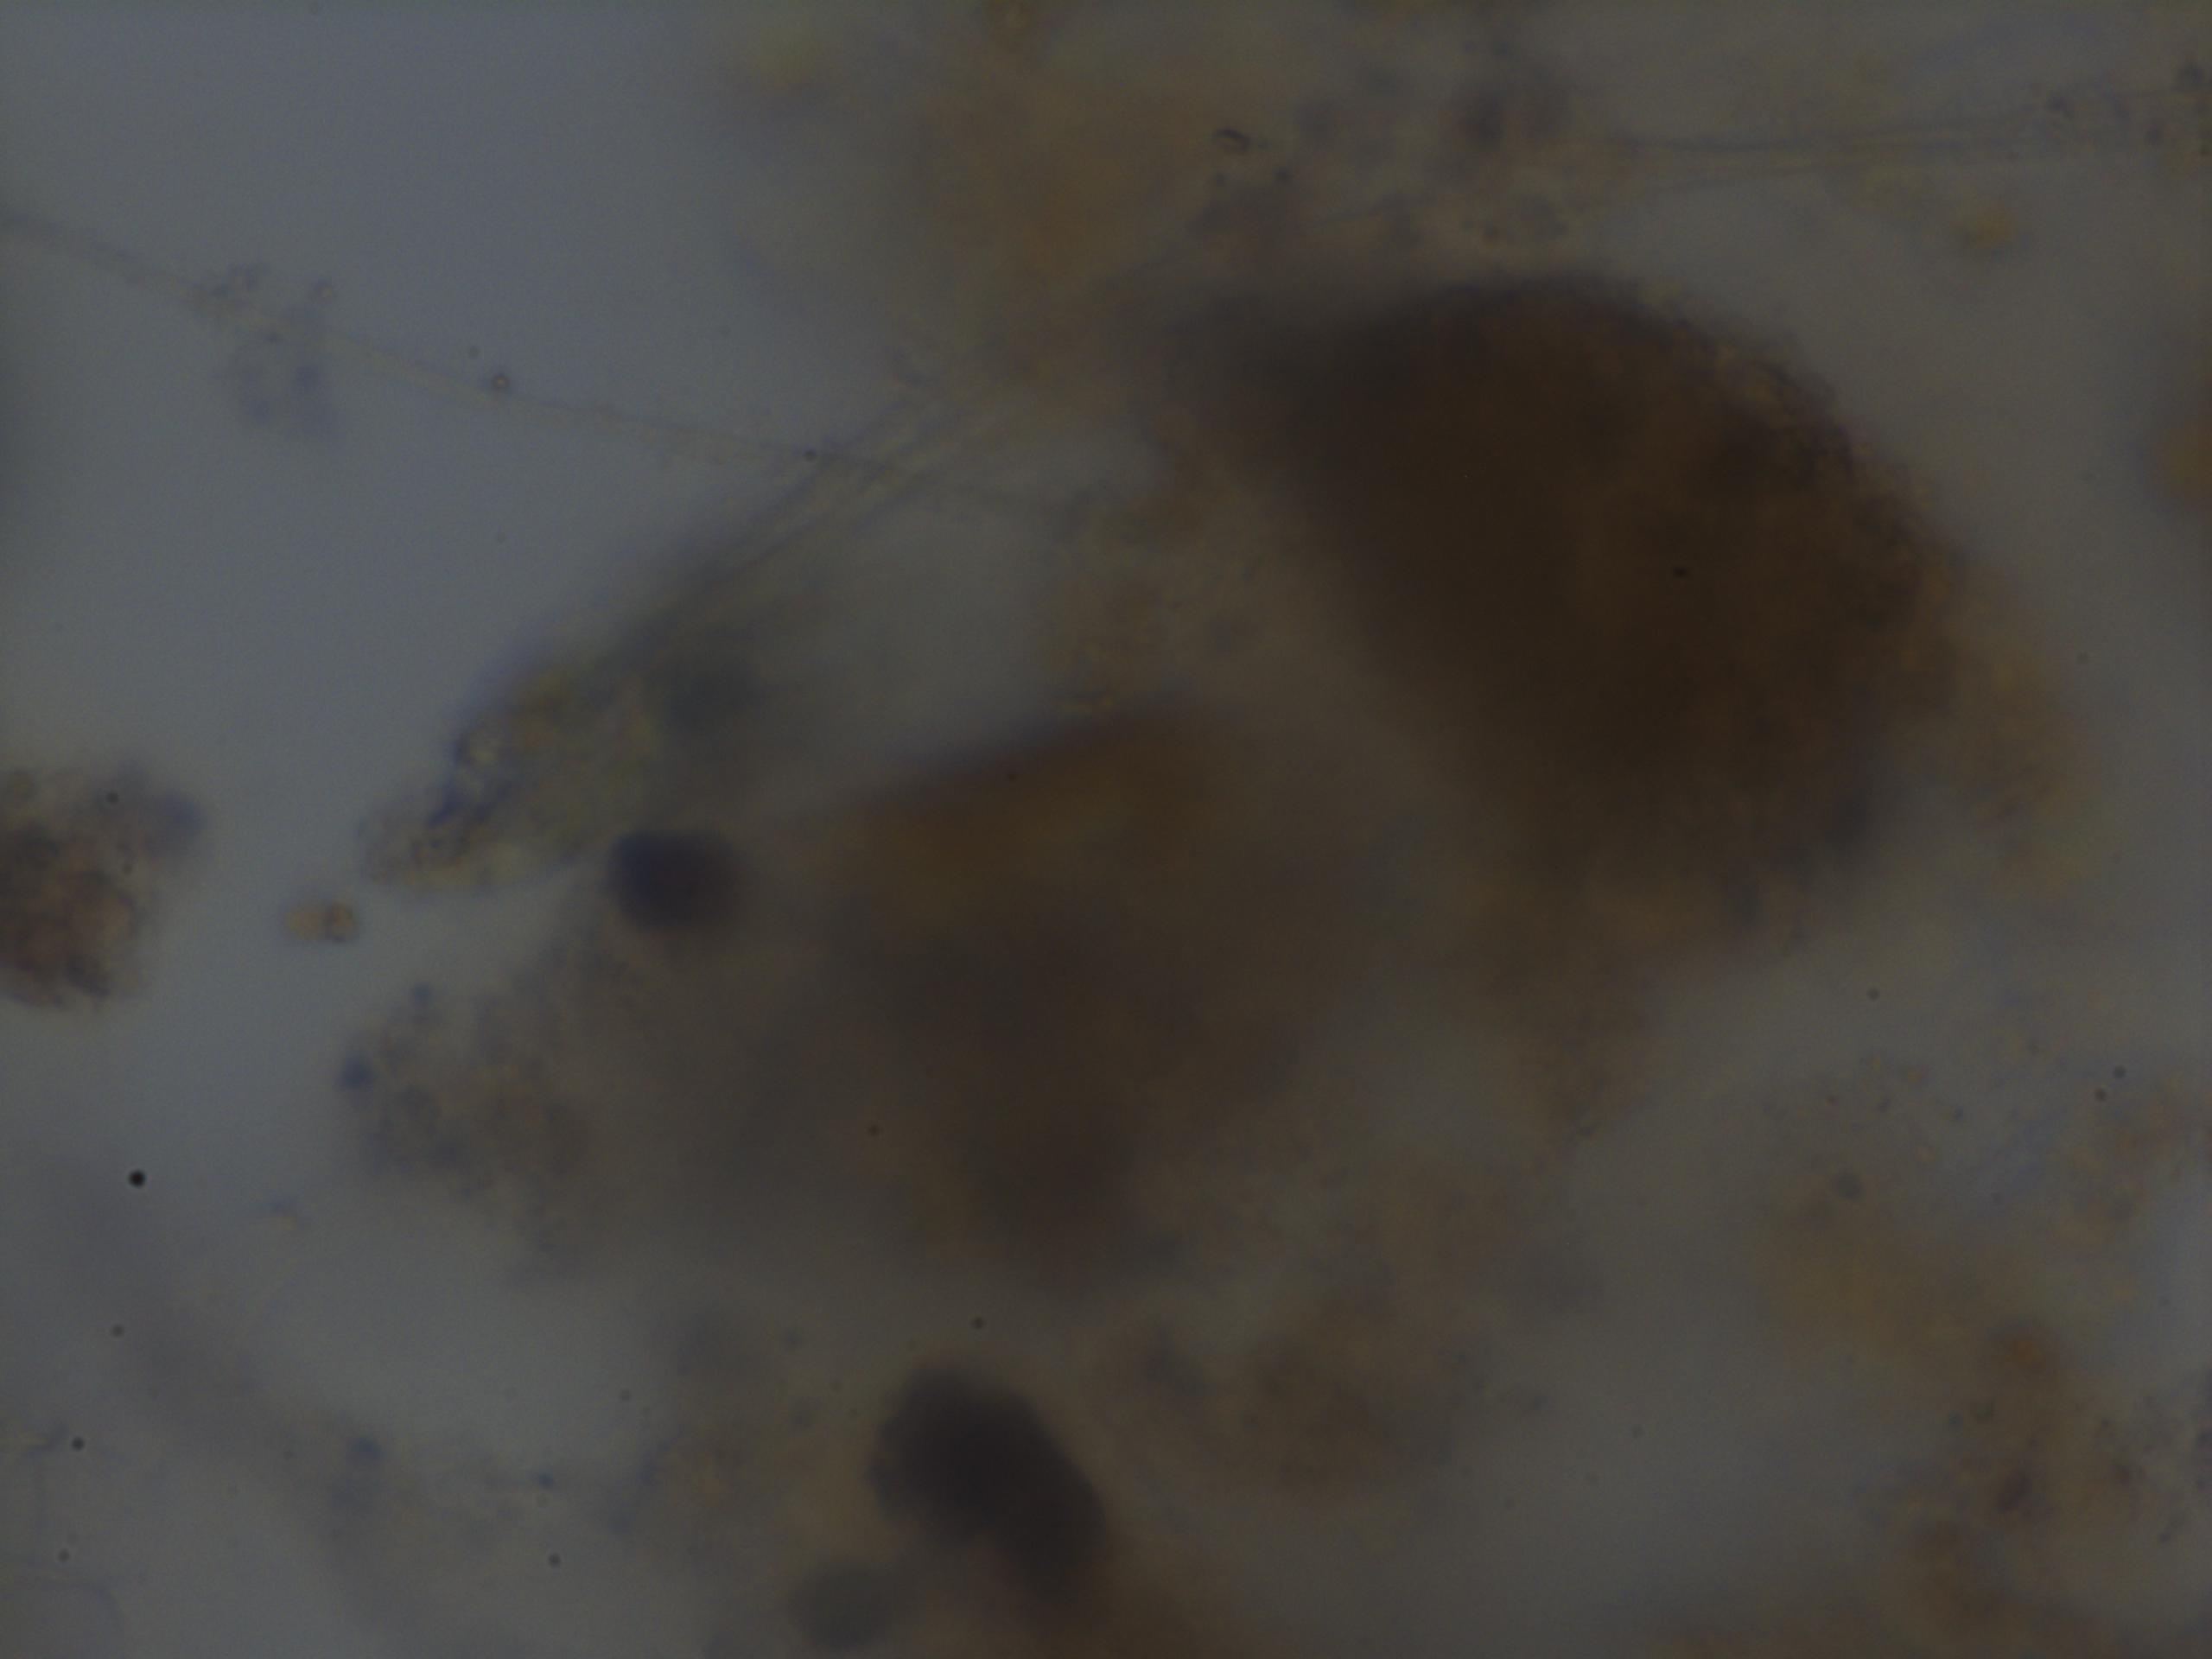filament: (340, 0, 2212, 894), (0, 214, 1061, 566)
